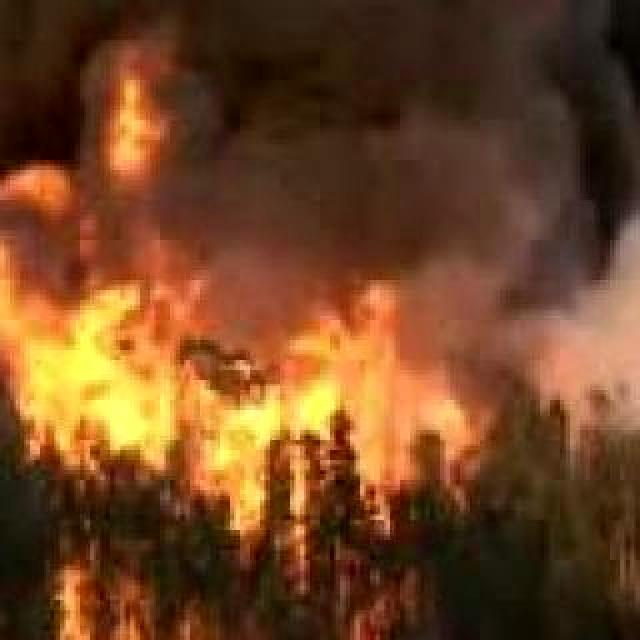fire: (0, 138, 570, 640)
